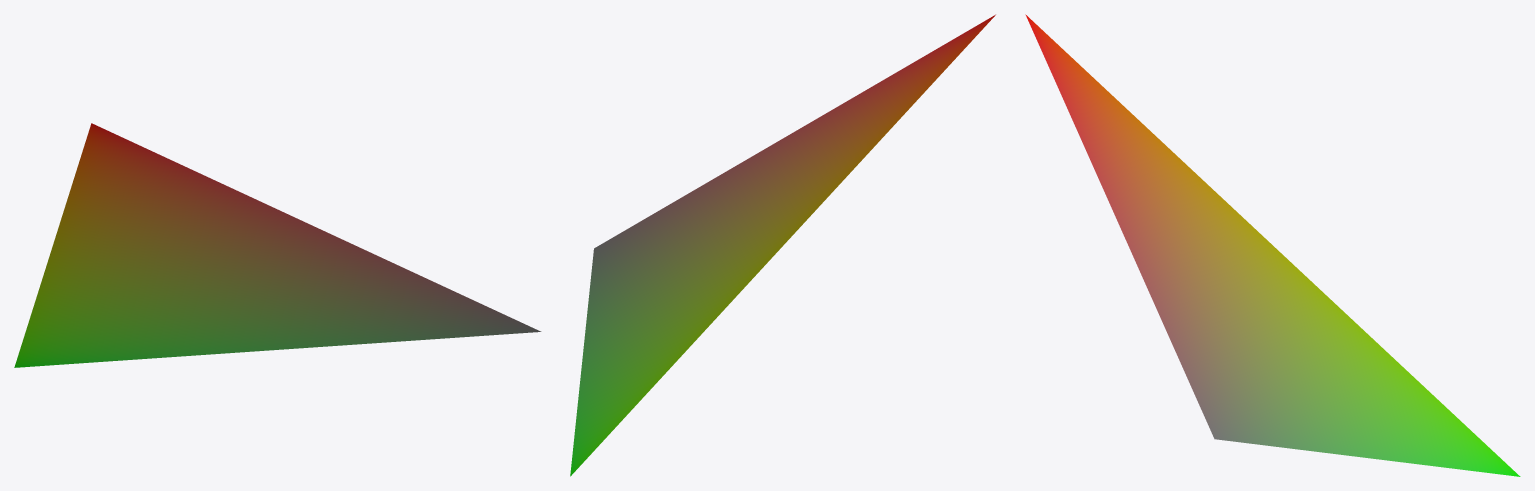
Rendered from start_border_patch_8.obj.
3 renders of one model, left to right at view 1: azimuth 30°, elevation 25°; view 2: azimuth 150°, elevation 25°; view 3: azimuth 270°, elevation 25°, orthographic. The views are drawn at different scales.
Size of the model in its own units: 0.6677 by 0.691 by 0.8569.
